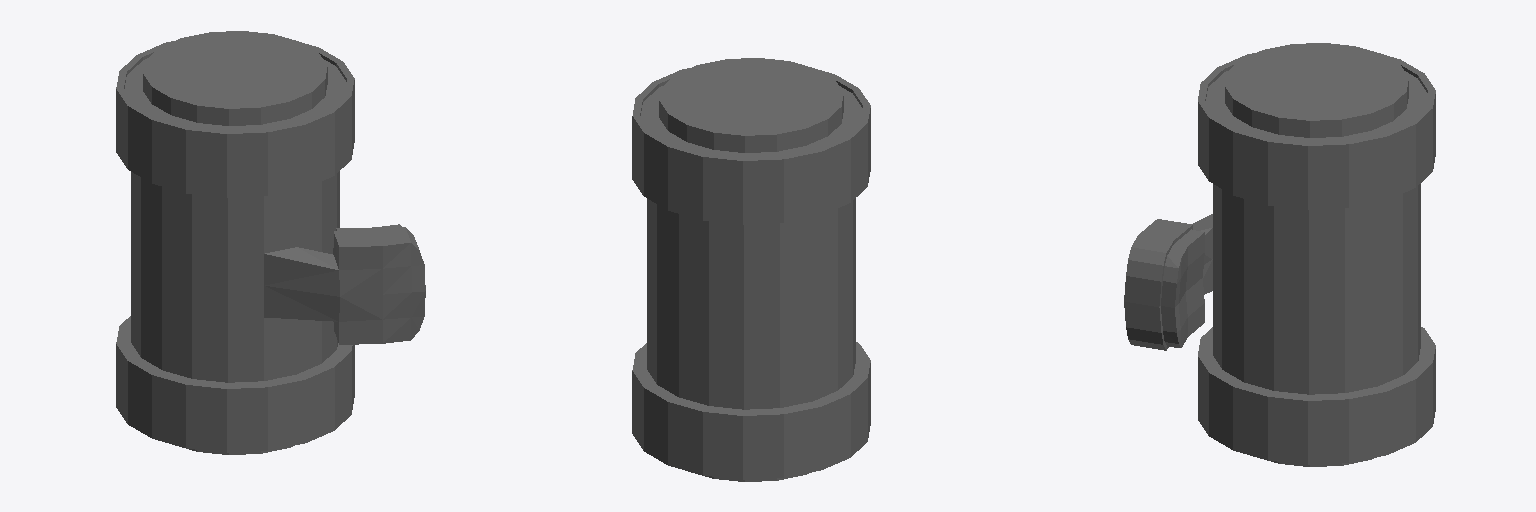
The model's file is LKneePitch_secondaryskin3.obj.
3 renders of one model, left to right at view 1: azimuth 30°, elevation 25°; view 2: azimuth 150°, elevation 25°; view 3: azimuth 270°, elevation 25°, orthographic.
Bounding box in the file's own units: 0.064 × 0.1004 × 0.082.